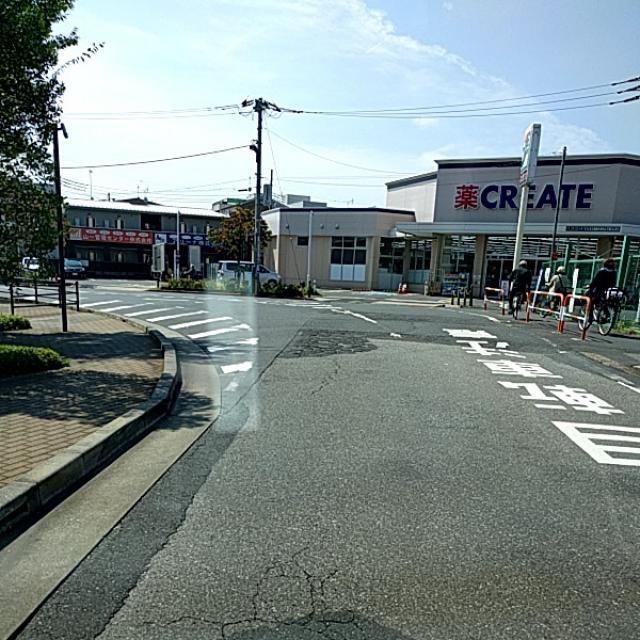pothole: (232, 566, 361, 630), (285, 304, 356, 352)
